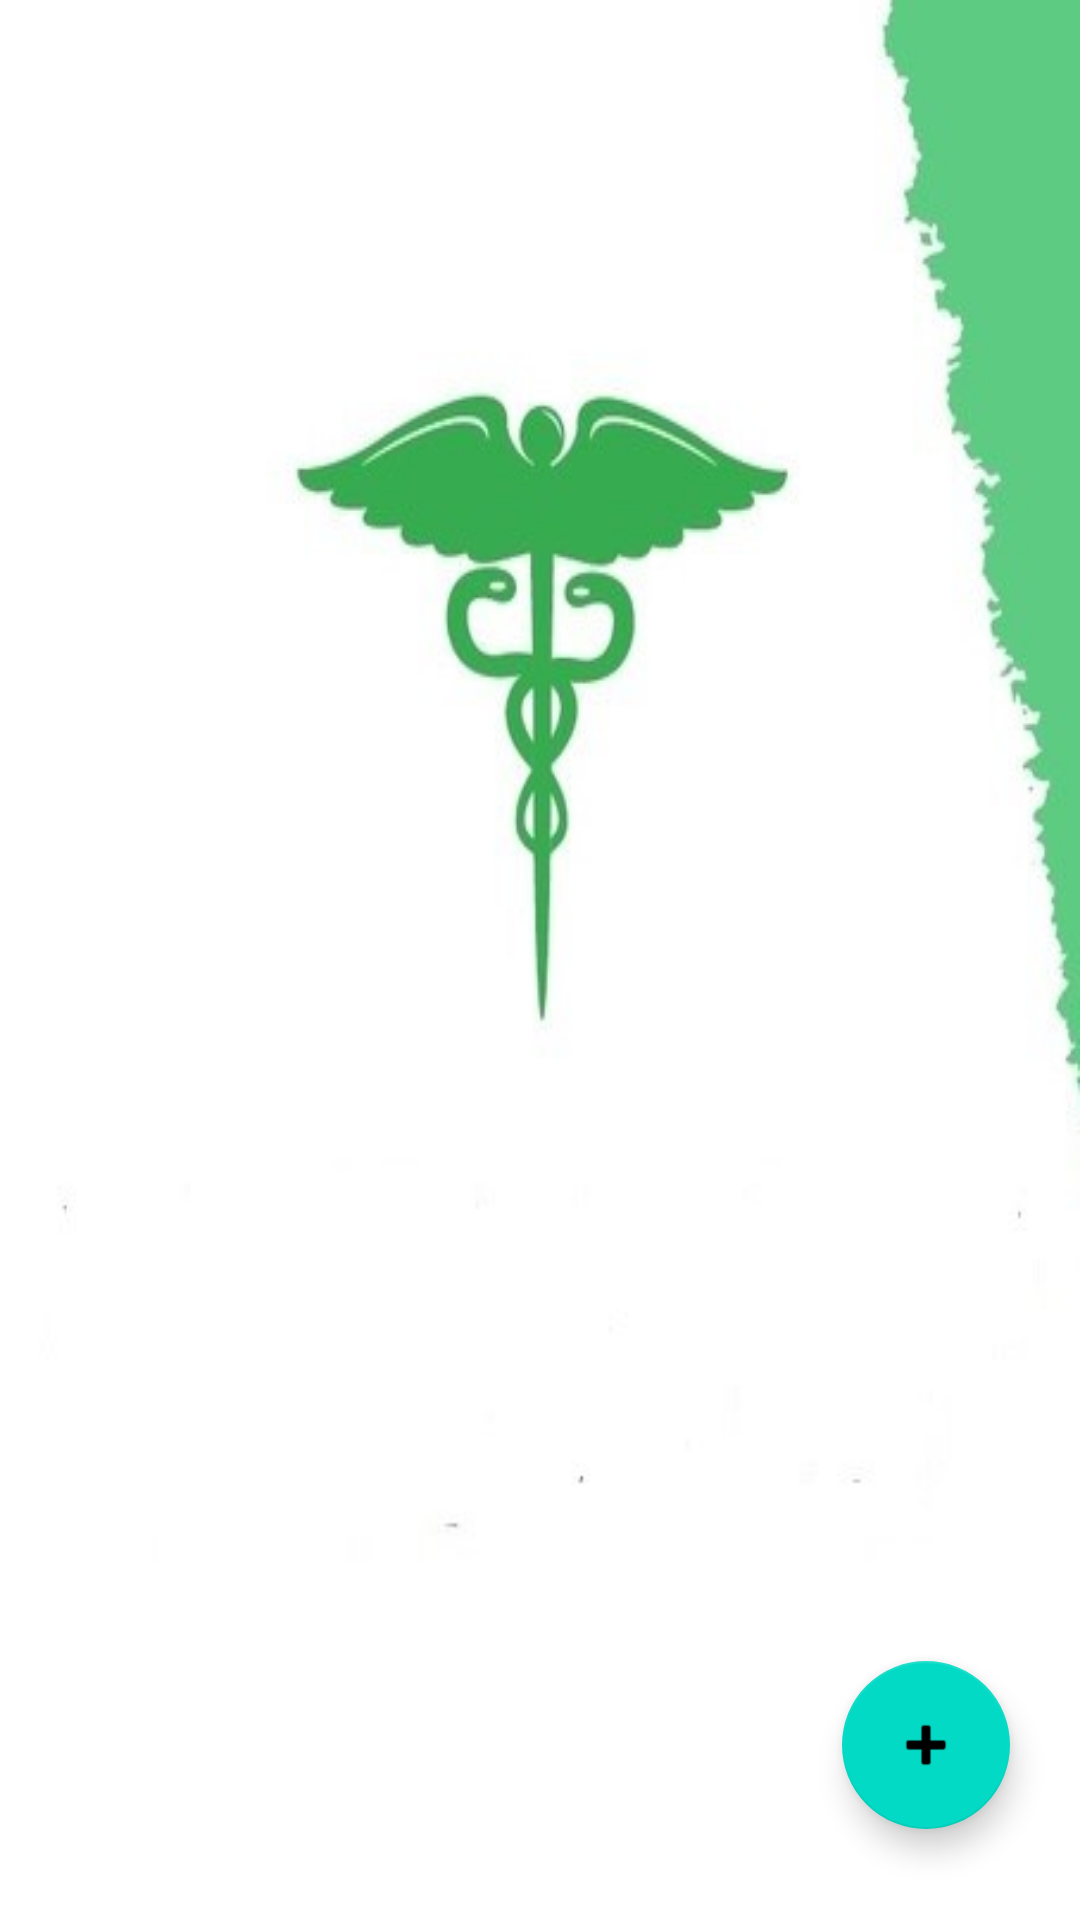

Icon bounding boxes for this 1080x1920 phone screenshot, format (x1, y1, x2, y2):
add: (842, 1661, 1010, 1829)
